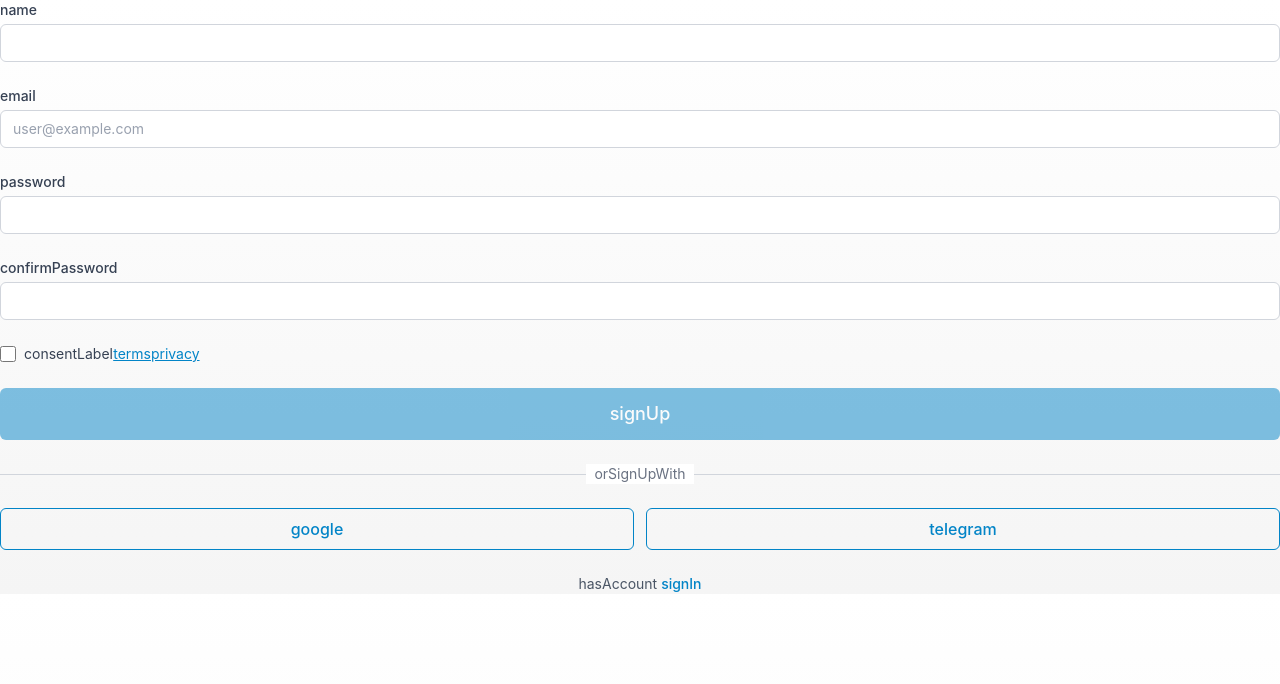
Test: RegisterForm › shows error message on registration failure
In the field labelled "name": point(640, 43) x1=0 y1=24 x2=1279 y2=62, type "Test User"
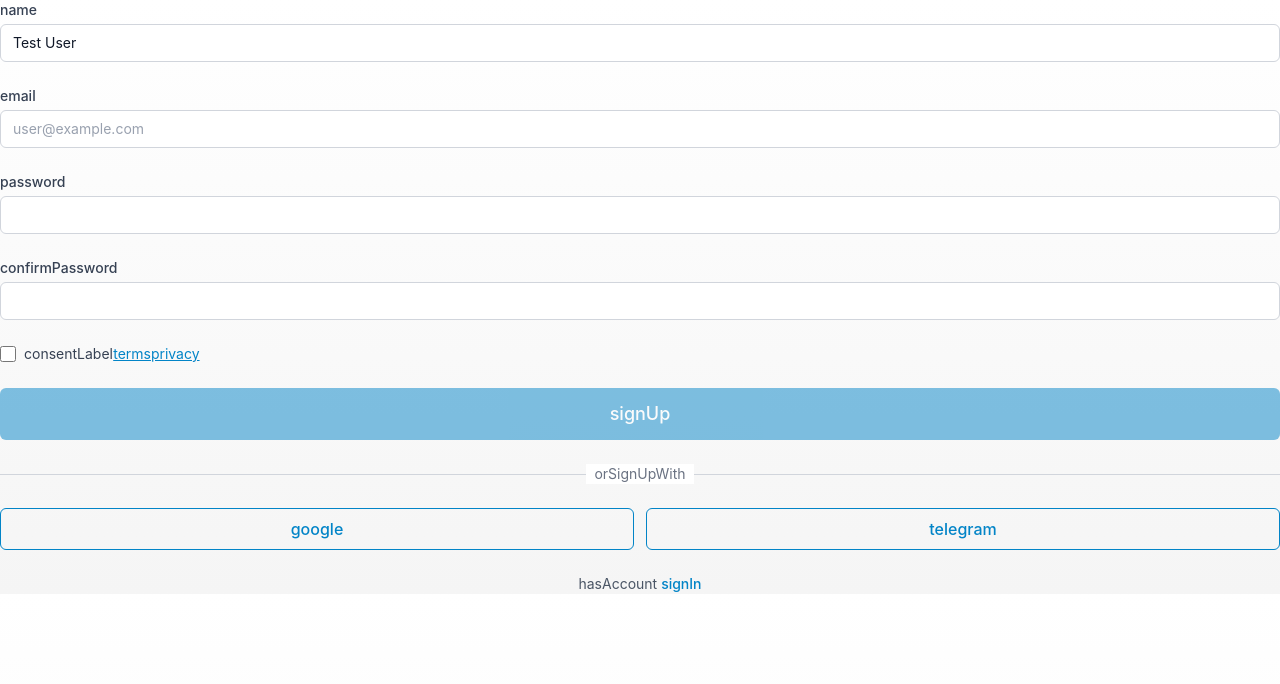
In the field labelled "email": point(640, 129) x1=0 y1=110 x2=1279 y2=148, type "test@example.com"
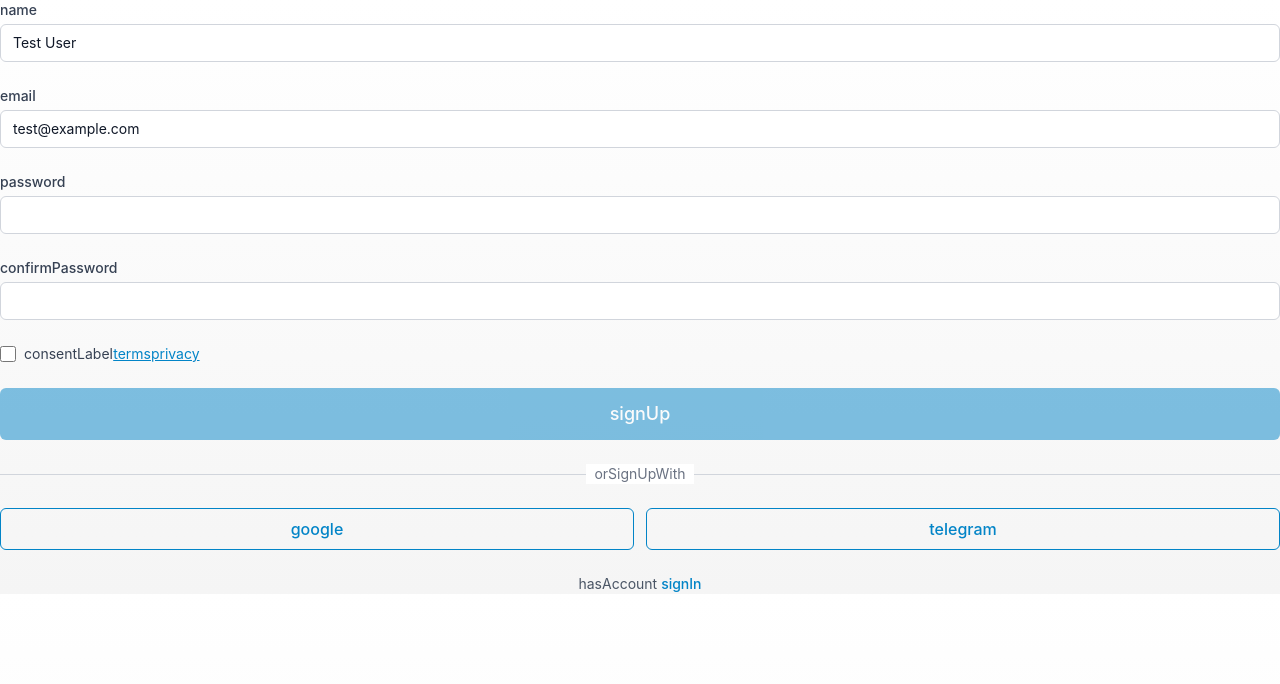
In the password field labelled "password": point(640, 215) x1=0 y1=196 x2=1279 y2=234, type "Password1"
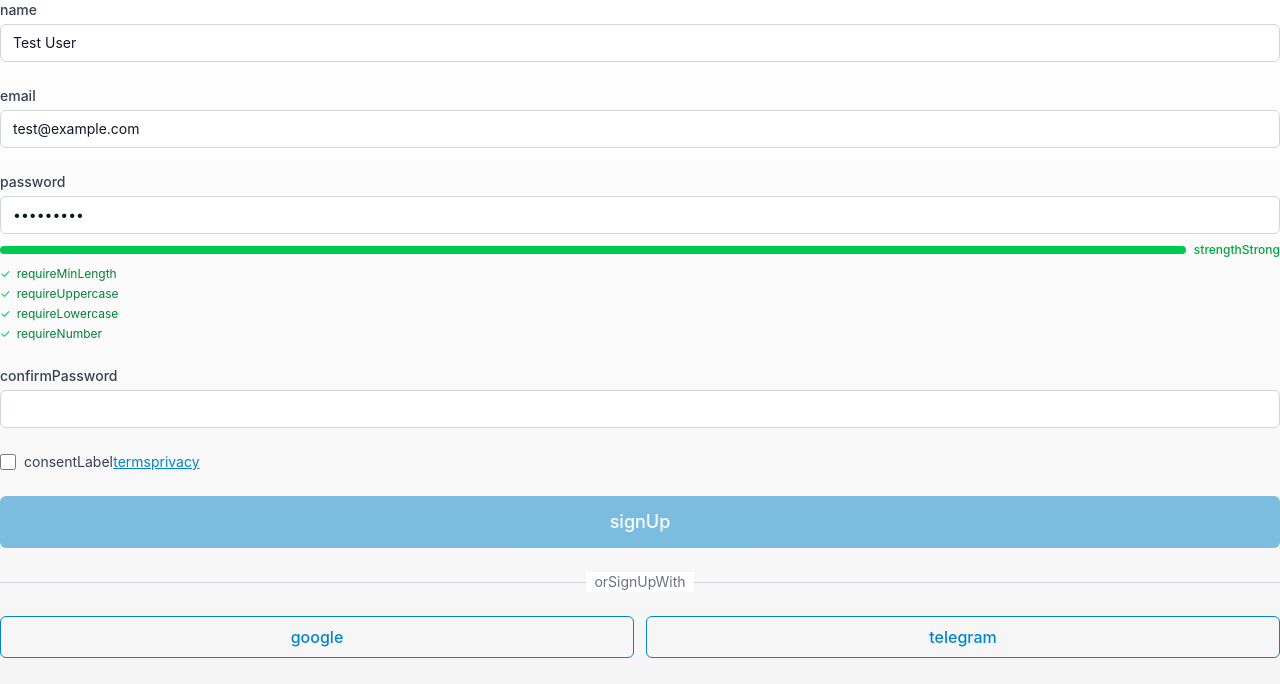
In the password field labelled "confirmPassword": point(640, 409) x1=0 y1=390 x2=1279 y2=428, type "Password1"
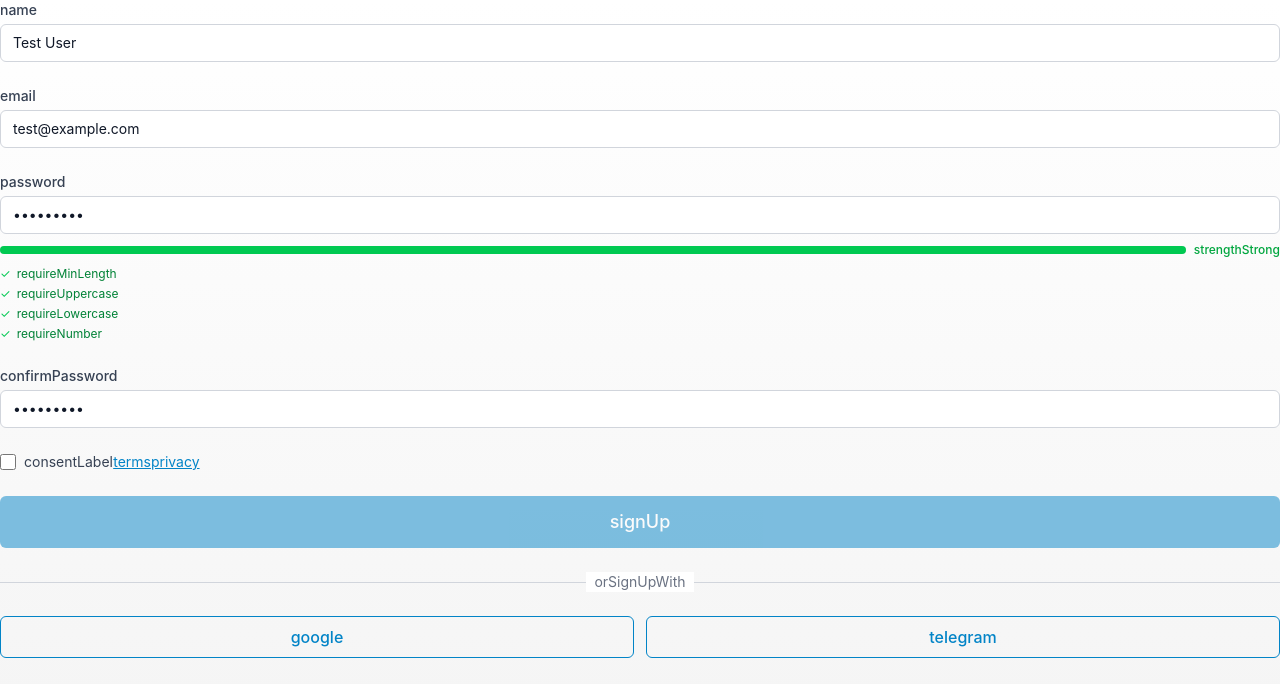
Click the checkbox with test id "consent-checkbox": point(8, 462) x1=0 y1=454 x2=16 y2=470
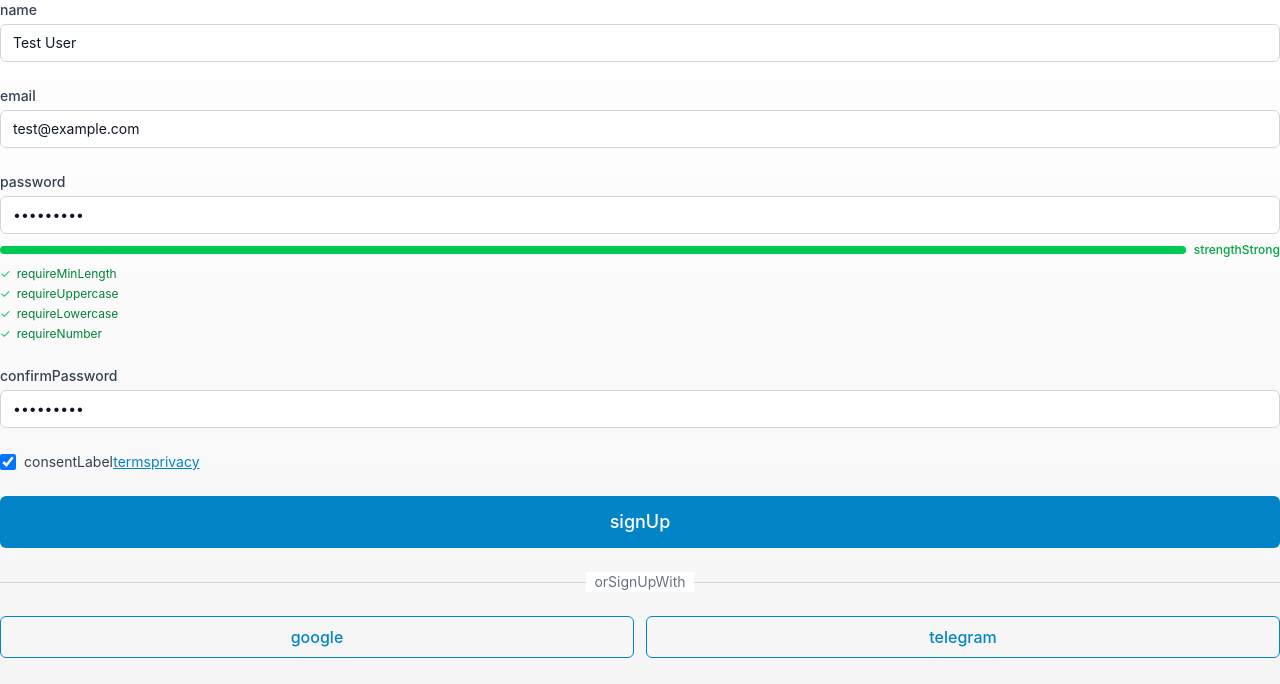
Click the button "signUp": point(640, 522) x1=0 y1=496 x2=1279 y2=548
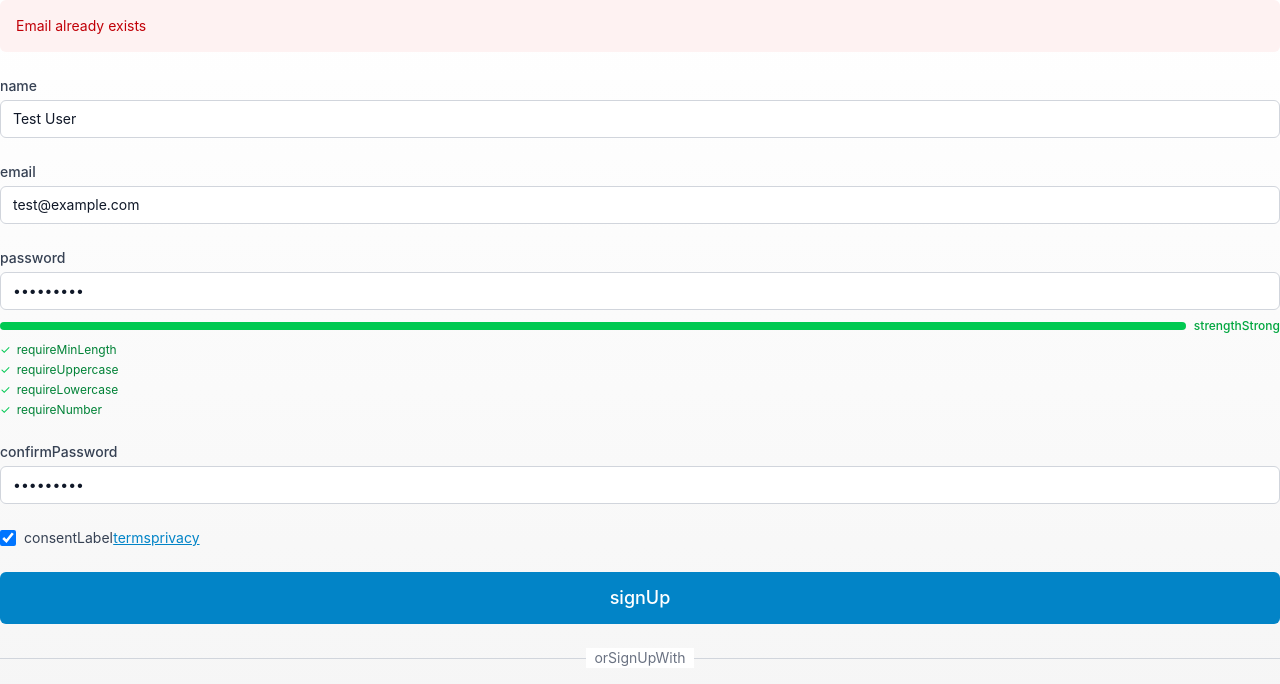
Now the message reads "Email already exists", box x1=16 y1=17 x2=146 y2=34
